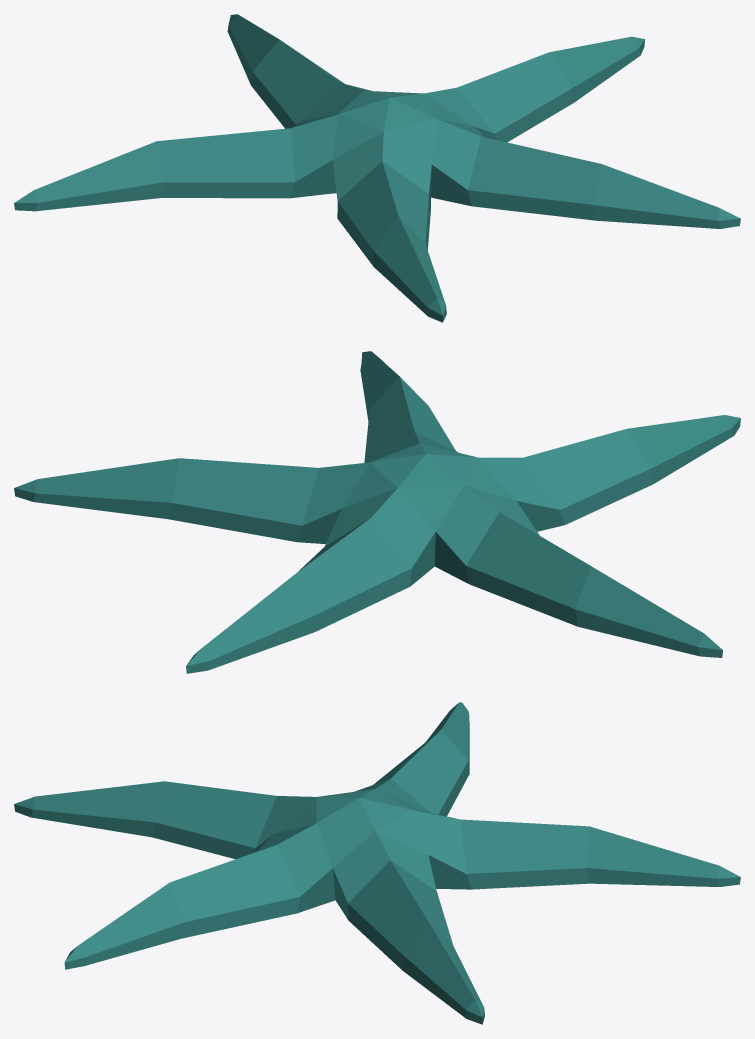
The model's file is SM_Sea_Star_Mature_A.fbx.
The picture shows the model from 3 angles, top to bottom: view 1: azimuth 30°, elevation 25°; view 2: azimuth 150°, elevation 25°; view 3: azimuth 270°, elevation 25°; orthographic projection. The views are drawn at different scales.
Parts seen in each view (by area): view 1: sea-star-mature-a; view 2: sea-star-mature-a; view 3: sea-star-mature-a.
Part boxes in pixels (<box>): sea-star-mature-a: <box>14,14,740,322</box>; sea-star-mature-a: <box>14,351,740,673</box>; sea-star-mature-a: <box>14,702,740,1024</box>.
Bounding box in the file's own units: 0.3722 × 0.0395 × 0.363.
